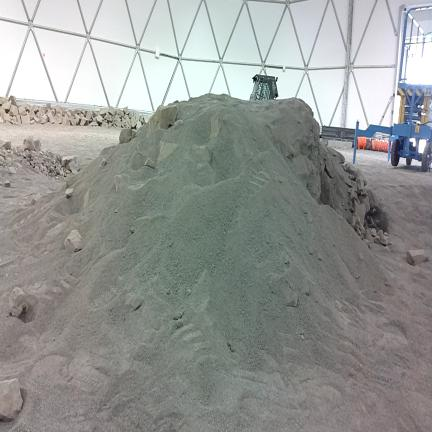Rock: (0, 379, 23, 421), (149, 105, 177, 131), (9, 287, 29, 317), (65, 230, 83, 251), (407, 250, 428, 265), (126, 293, 142, 311), (62, 156, 80, 171), (285, 287, 298, 307), (24, 136, 41, 151), (355, 201, 365, 226), (115, 174, 128, 192), (120, 129, 136, 143), (367, 189, 378, 207), (360, 196, 370, 213), (344, 163, 356, 177), (23, 137, 35, 151), (120, 129, 131, 143), (172, 309, 184, 321), (1, 101, 11, 112), (145, 158, 155, 168), (0, 140, 11, 149), (47, 110, 54, 123), (9, 105, 18, 115), (130, 117, 138, 128), (366, 229, 373, 241), (65, 188, 73, 198), (380, 236, 388, 246), (54, 113, 62, 123), (61, 115, 69, 125), (22, 115, 30, 124), (113, 118, 121, 127), (69, 117, 77, 126), (18, 106, 26, 115), (2, 141, 11, 149), (9, 96, 16, 106), (0, 106, 5, 120), (125, 117, 131, 127), (8, 167, 16, 174), (80, 118, 88, 125), (116, 110, 124, 117), (32, 106, 40, 113), (4, 113, 11, 121), (374, 236, 381, 244), (100, 158, 106, 167), (96, 115, 102, 124), (108, 106, 114, 115), (15, 115, 21, 124), (377, 230, 383, 239), (86, 110, 91, 120), (0, 97, 7, 104), (99, 109, 106, 116), (126, 112, 134, 118), (388, 242, 393, 251), (75, 114, 80, 123), (175, 119, 182, 125), (123, 107, 129, 114), (371, 228, 376, 236), (42, 115, 47, 123), (135, 113, 140, 121), (137, 121, 142, 129), (46, 103, 51, 111), (90, 121, 98, 126), (4, 181, 10, 187), (101, 121, 107, 127), (132, 130, 136, 139), (34, 117, 40, 123), (79, 112, 85, 118), (121, 118, 125, 127), (92, 111, 97, 118), (67, 110, 72, 116)
